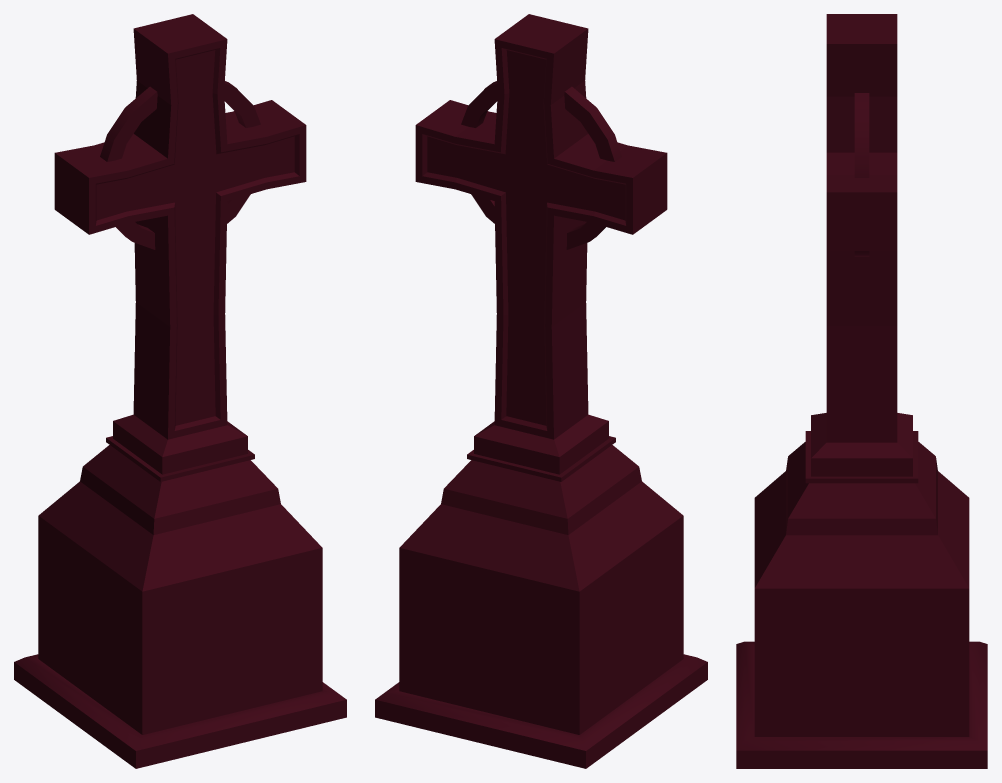
Rendered from Tomb_3.fbx.
The picture shows the model from 3 angles, left to right: view 1: azimuth 30°, elevation 25°; view 2: azimuth 150°, elevation 25°; view 3: azimuth 270°, elevation 25°; orthographic projection. The views are drawn at different scales.
Visible parts, largest first — view 1: Tomb_3; view 2: Tomb_3; view 3: Tomb_3.
Part boxes in pixels (x1,y1,x2,y2): Tomb_3: (14, 14, 346, 768); Tomb_3: (375, 14, 707, 768); Tomb_3: (736, 14, 987, 768).
Bounding box in the file's own units: 5.15 × 15.06 × 5.
